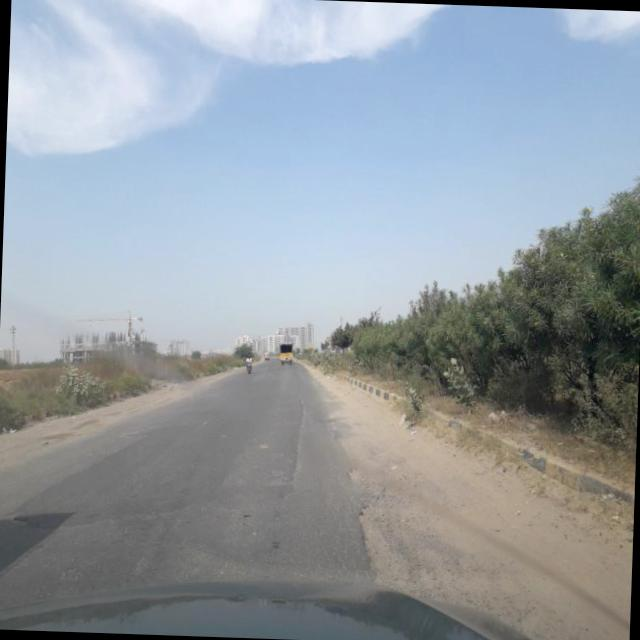pothole: (347, 494, 412, 586)
